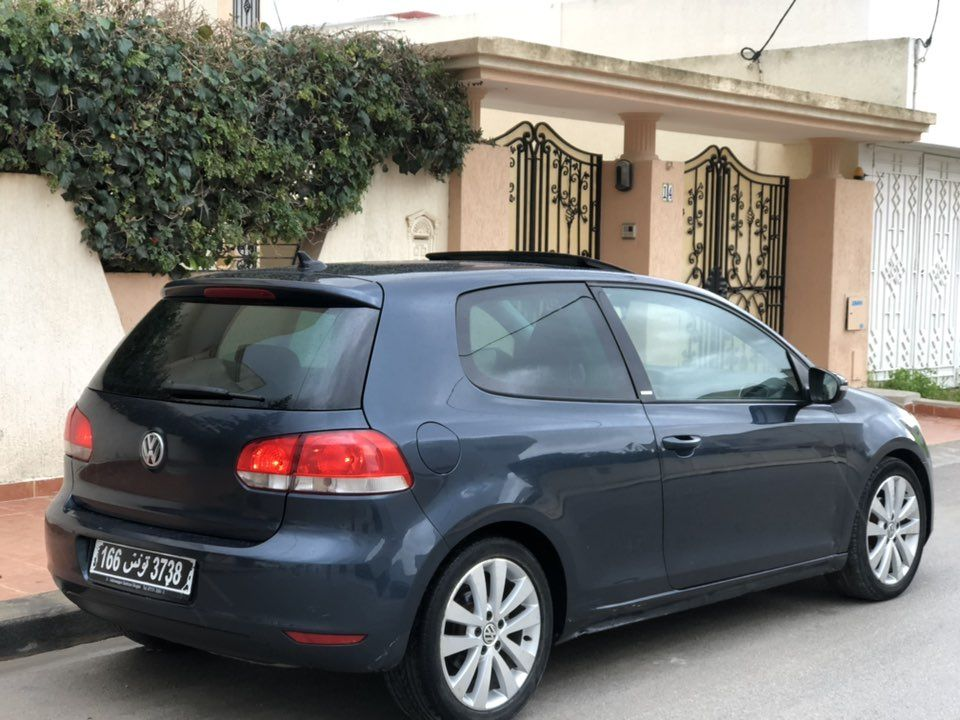LP: (87, 537, 195, 596)
